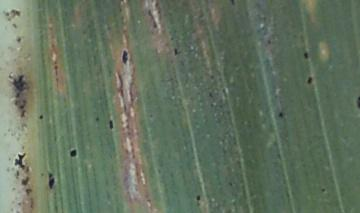tarspot: (7, 72, 30, 118), (146, 9, 159, 30), (5, 8, 23, 23), (13, 151, 26, 170), (46, 171, 56, 190), (120, 47, 129, 66), (19, 174, 30, 187), (68, 147, 79, 159), (153, 1, 161, 17), (28, 196, 34, 213), (225, 179, 235, 189), (24, 187, 34, 197), (277, 109, 286, 119), (14, 35, 23, 44), (206, 90, 215, 99), (355, 93, 360, 108), (108, 118, 114, 130), (94, 114, 102, 123), (172, 46, 179, 56), (306, 75, 313, 84), (302, 50, 309, 59), (195, 193, 202, 202), (37, 114, 45, 121), (319, 186, 327, 193), (10, 22, 18, 29), (208, 73, 216, 80), (266, 37, 272, 45), (228, 1, 236, 6)
